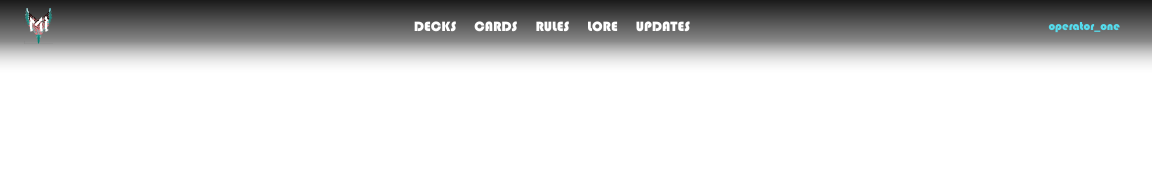
Scenario: AppHeader › exposes Subscribe from the account menu
Click the button with aria-label "Account menu".
click(1084, 26)  # box [1040, 10, 1128, 42]
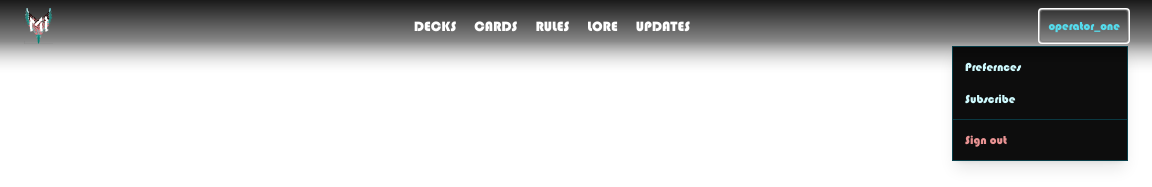
Expected: the menu item "Subscribe" is shown, [953, 83, 1127, 115]
